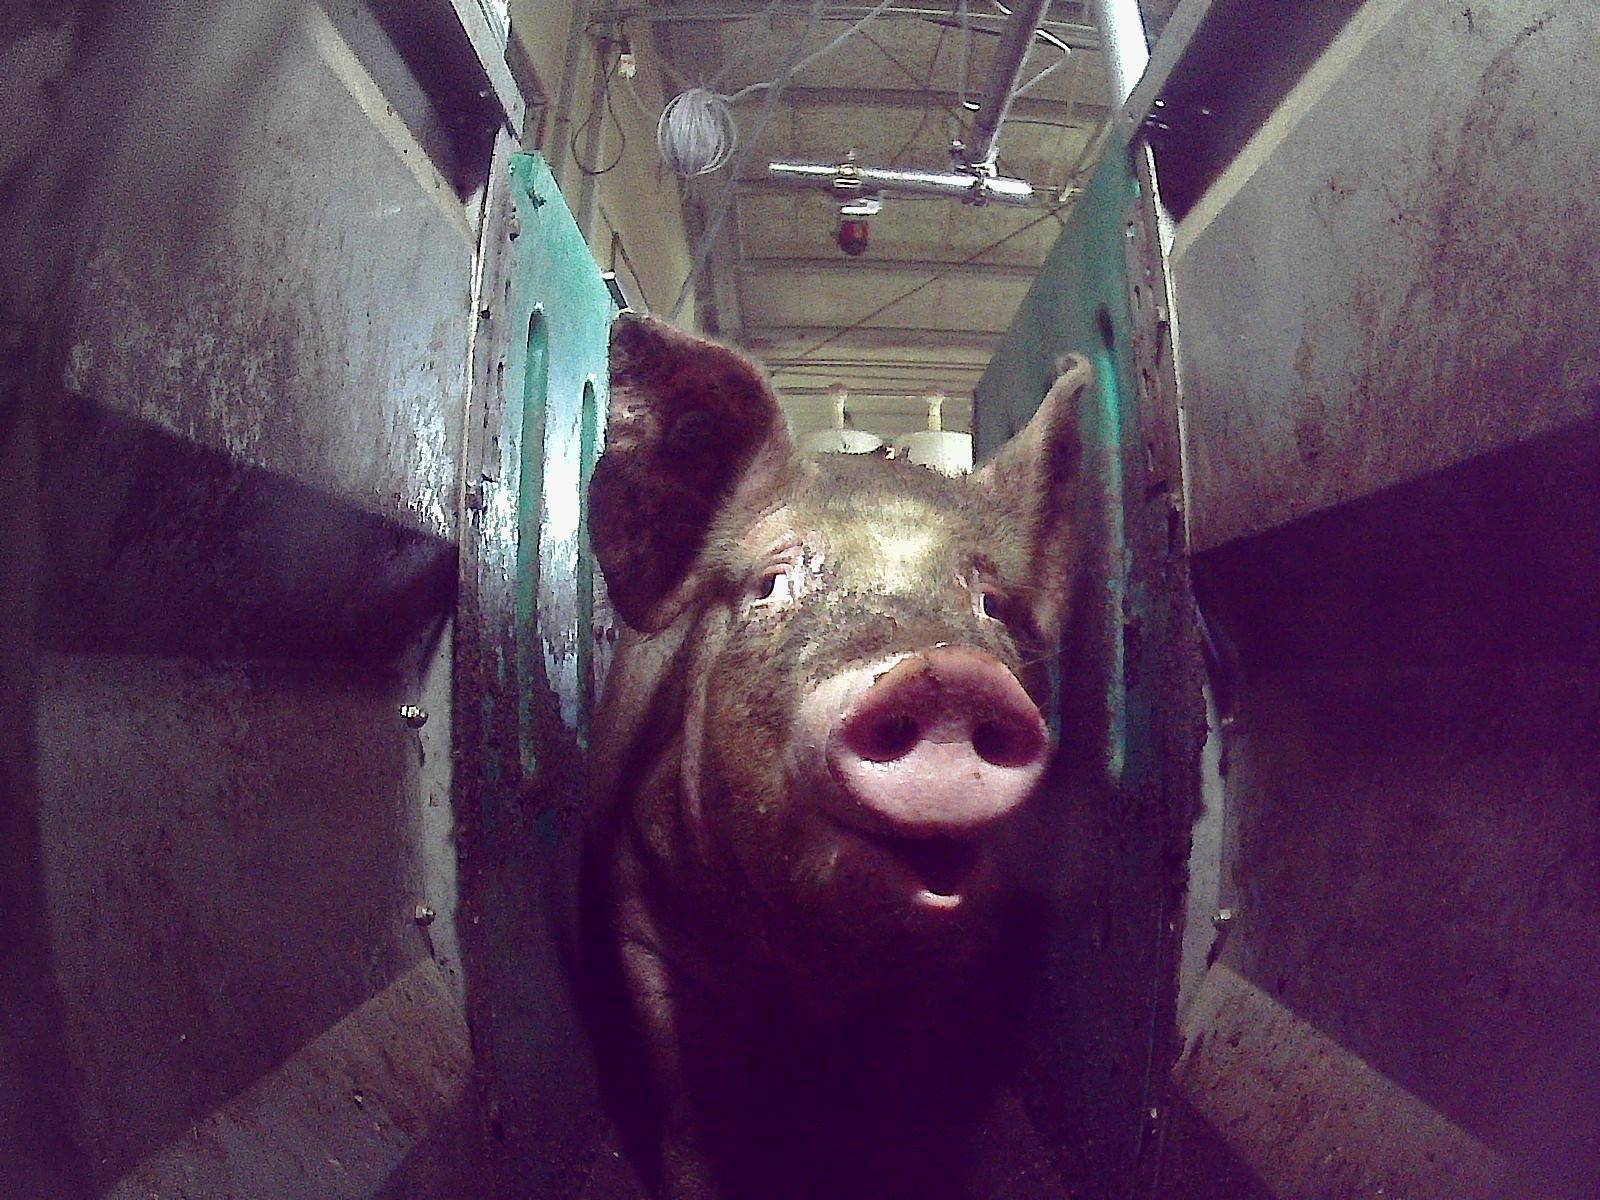Face: (667, 449, 1057, 948)
